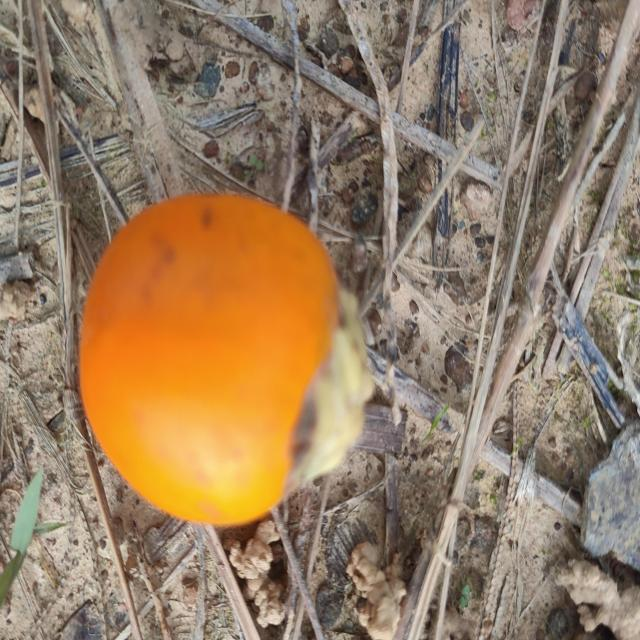good: (77, 192, 376, 531)
